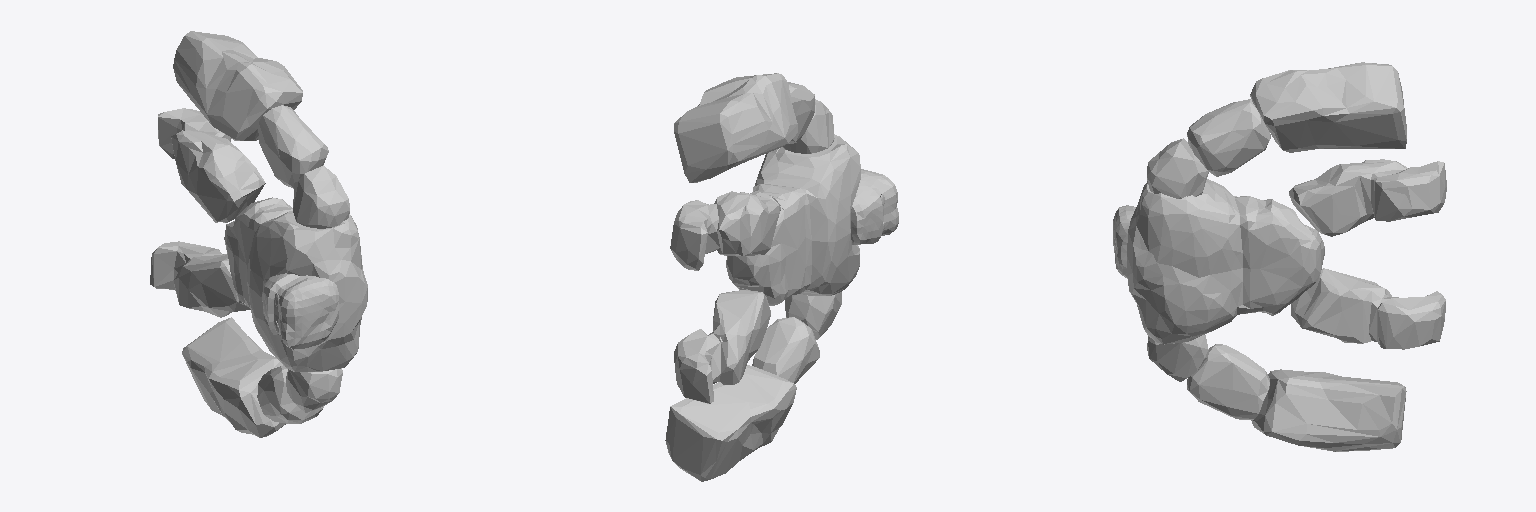
Rendered from Stone.obj.
3 renders of one model, left to right at view 1: azimuth 30°, elevation 25°; view 2: azimuth 150°, elevation 25°; view 3: azimuth 270°, elevation 25°, orthographic.
Parts seen in each view (by area): view 1: hands&leg.001_ice.003, torso.001_ice.005, head.001_ice.004; view 2: hands&leg.001_ice.003, torso.001_ice.005, head.001_ice.004; view 3: hands&leg.001_ice.003, torso.001_ice.005, head.001_ice.004.
Boxes of the visible parts, x1=… form: hands&leg.001_ice.003: x1=150, y1=31, x2=349, y2=437; torso.001_ice.005: x1=224, y1=197, x2=367, y2=371; head.001_ice.004: x1=262, y1=273, x2=338, y2=349; hands&leg.001_ice.003: x1=665, y1=73, x2=841, y2=481; torso.001_ice.005: x1=726, y1=134, x2=860, y2=305; head.001_ice.004: x1=851, y1=169, x2=898, y2=244; hands&leg.001_ice.003: x1=1147, y1=62, x2=1446, y2=451; torso.001_ice.005: x1=1127, y1=179, x2=1324, y2=344; head.001_ice.004: x1=1113, y1=205, x2=1135, y2=278.
Size of the model in its own units: 2.39 by 8.33 by 6.71.